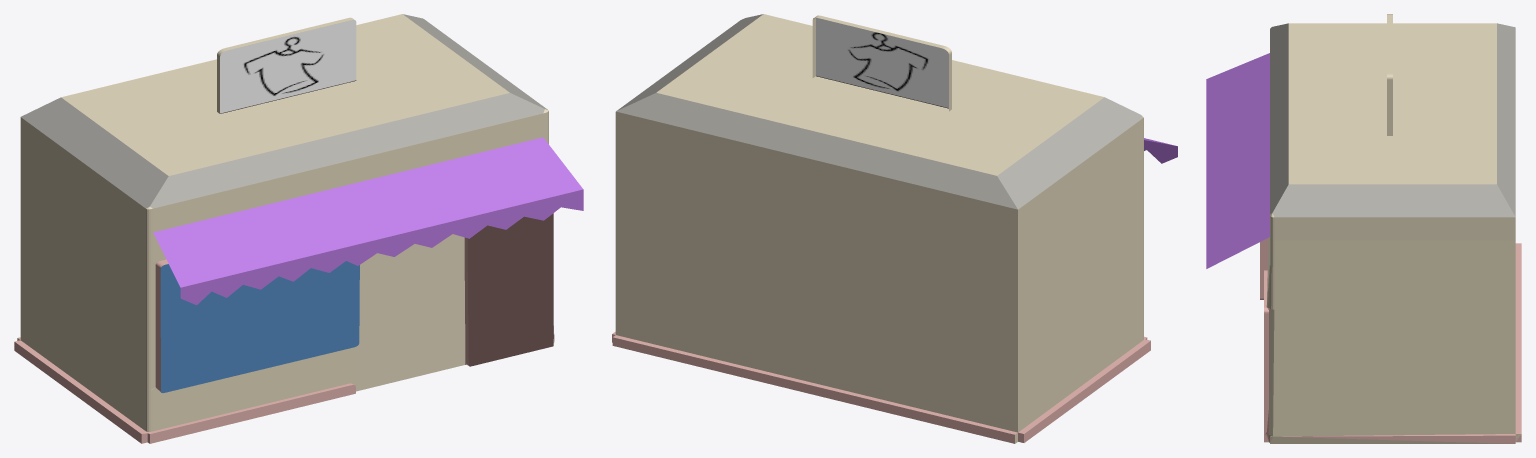
File: ClothingShop.fbx
The picture shows the model from 3 angles, left to right: view 1: azimuth 30°, elevation 25°; view 2: azimuth 150°, elevation 25°; view 3: azimuth 270°, elevation 25°; orthographic projection. The views are drawn at different scales.
Visible parts, largest first — view 1: Cube; view 2: Cube; view 3: Cube.
Boxes of the visible parts, x1,y1,x2,y2 form: Cube: (14, 14, 583, 443); Cube: (612, 14, 1177, 443); Cube: (1206, 14, 1521, 443).
Bounding box in the file's own units: 458 × 331 × 312.
